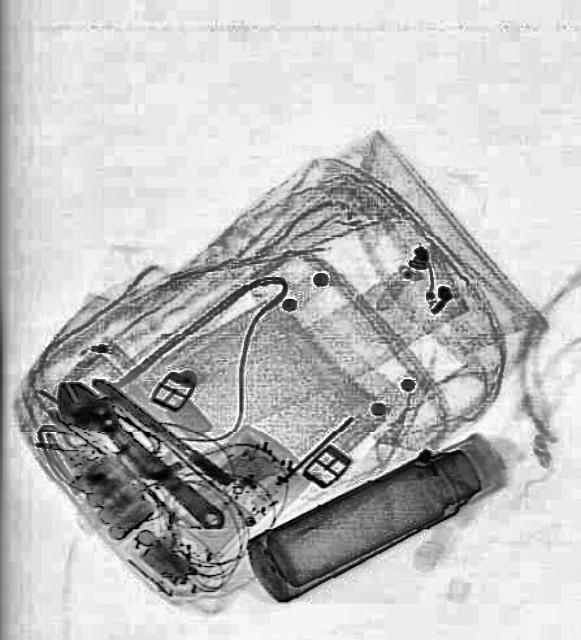Wrench: (42, 369, 236, 545)
